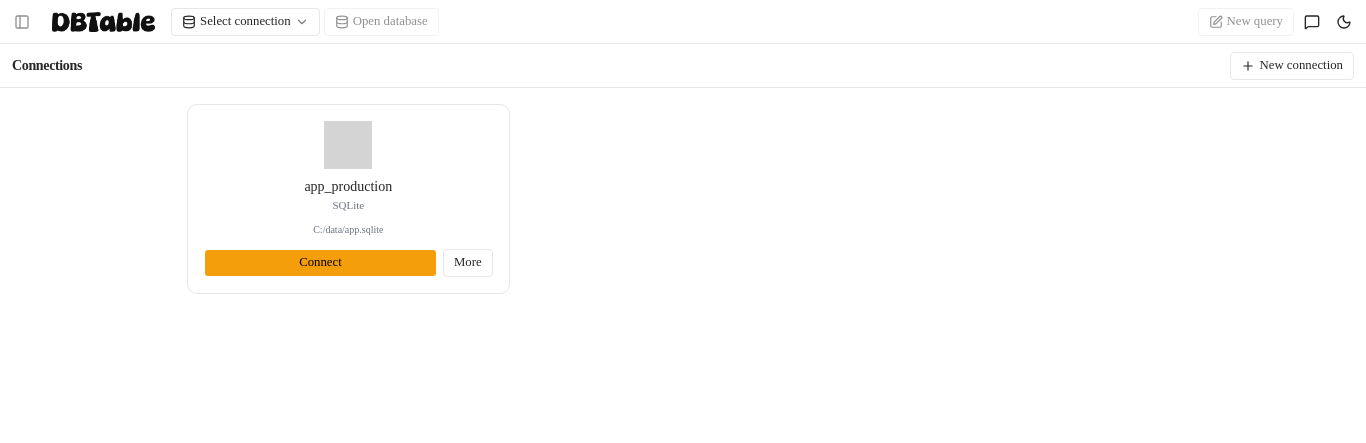
App workspace shell › shows connections as cards and opens details from More
expect the text "app_production" is shown: met, box 304,177 -> 392,197
expect the button with aria-label "Connect app_production" is shown: met, box 204,248 -> 437,276
Click the button with aria-label "More about app_production".
click(468, 262)  # box 443,248 -> 493,276
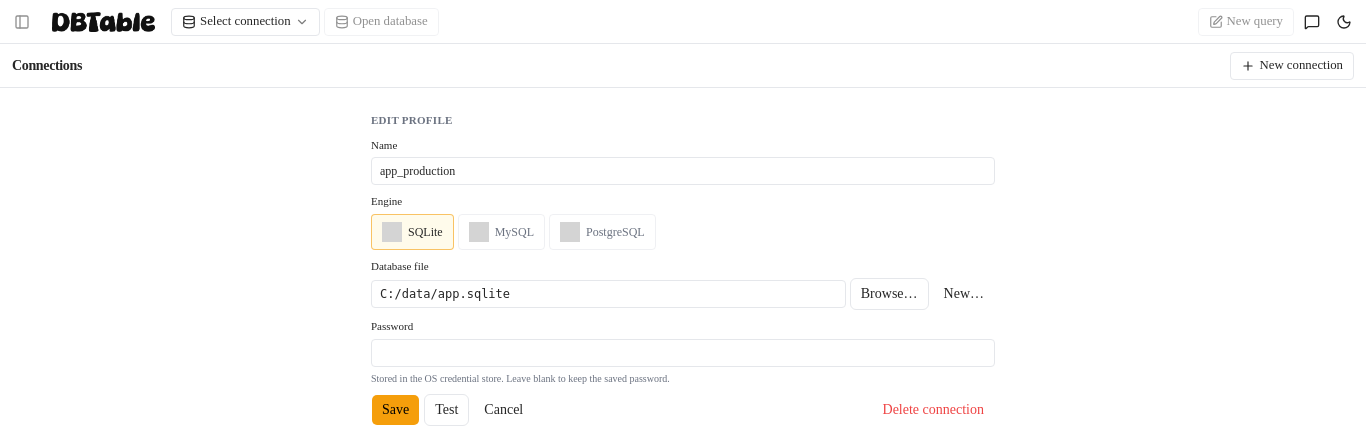
expect the text "Edit profile" is shown: met, box 371,114 -> 453,126
expect the field labelled "Database file" is shown: met, box 371,280 -> 846,308
expect the button "Delete connection" is shown: met, box 872,394 -> 995,426
